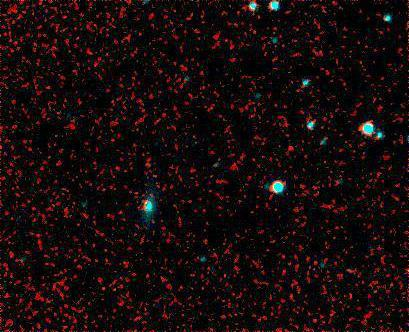star: (130, 188, 160, 218)
